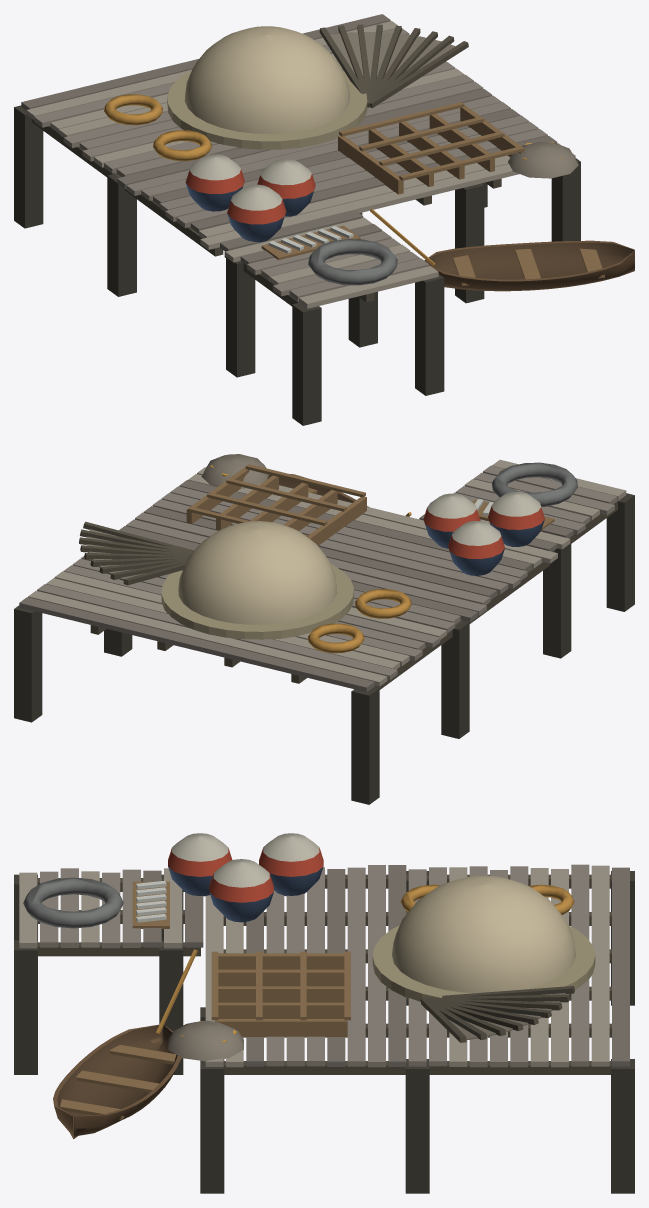
The model's file is VerHut11.glb.
The picture shows the model from 3 angles, top to bottom: view 1: azimuth 30°, elevation 25°; view 2: azimuth 150°, elevation 25°; view 3: azimuth 270°, elevation 25°; orthographic projection. The views are drawn at different scales.
Parts seen in each view (by area): view 1: VerHut11_deck_c; view 2: VerHut11_deck_c; view 3: VerHut11_deck_c.
Part boxes in pixels (x1,y1,x2,y2): VerHut11_deck_c: (14,14,634,425); VerHut11_deck_c: (14,454,634,804); VerHut11_deck_c: (14,833,634,1193).
Bounding box in the file's own units: 7.32 × 3.55 × 9.52.
